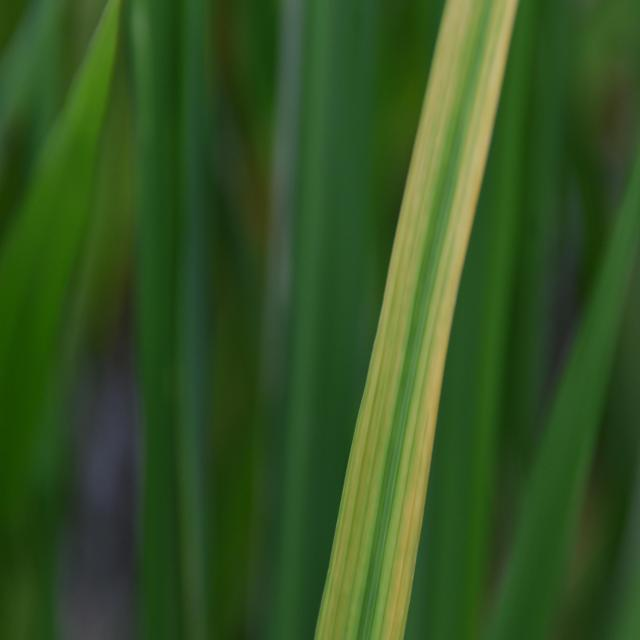Rice Tungro: (296, 10, 528, 635)
